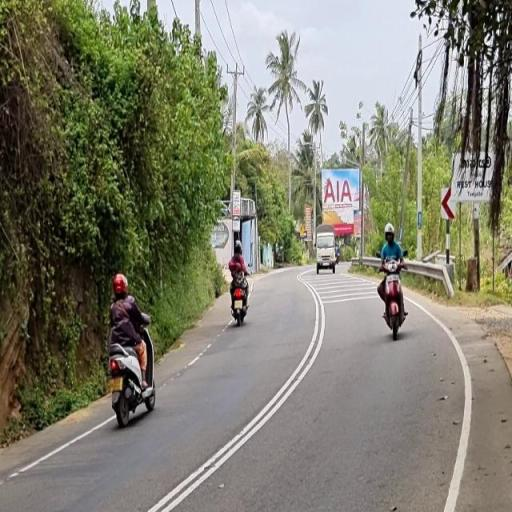double_white_line: (143, 273, 328, 512)
